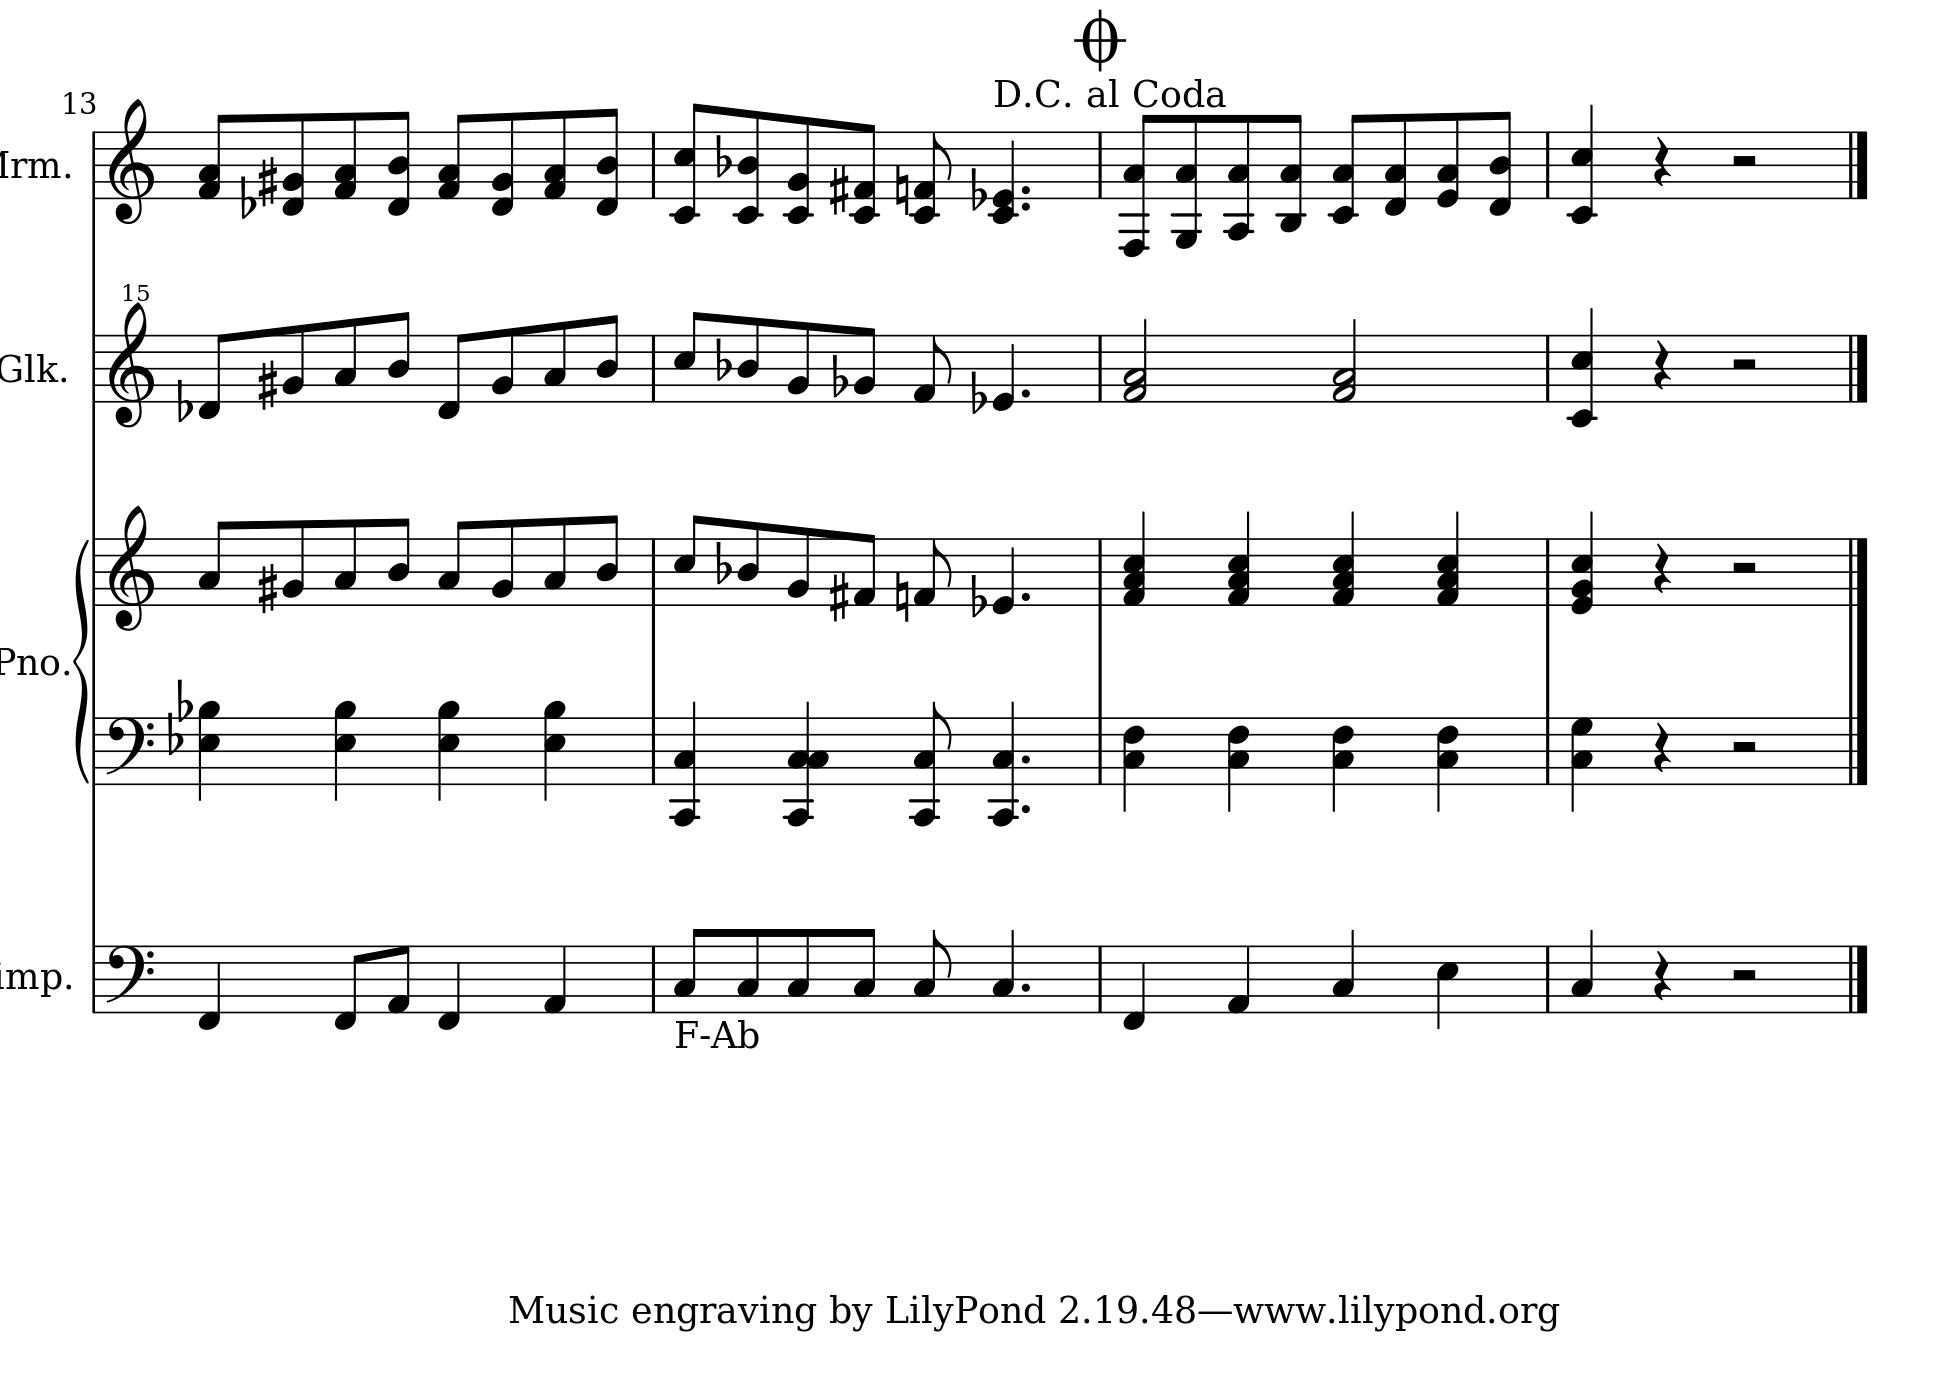1: (63, 88, 76, 115)
2_1_3: (1122, 316, 1150, 403), (1332, 316, 1359, 405)
3: (79, 88, 97, 115)
4_-1: (196, 942, 223, 1030), (436, 942, 462, 1032), (1122, 942, 1147, 1032)
4_-2_5: (1563, 103, 1600, 226), (1566, 309, 1600, 429)
4_-4_3: (667, 702, 703, 828), (987, 700, 1021, 828)
4_0: (993, 331, 1018, 412), (993, 535, 1018, 616)
4_1: (541, 943, 568, 1015), (1227, 943, 1252, 1015)
4_3: (991, 928, 1017, 1014), (1570, 928, 1596, 1014), (1332, 928, 1356, 1012)
4_3_6: (1434, 715, 1462, 814), (1225, 715, 1254, 814), (1120, 714, 1149, 813), (1329, 715, 1356, 814)
4_3_7: (1569, 715, 1596, 810)
4_5: (1434, 943, 1459, 1030)
4_5_9: (436, 699, 463, 801), (543, 700, 568, 802), (333, 697, 358, 799), (196, 699, 222, 801)
4_th: (1569, 508, 1597, 616), (1224, 510, 1254, 607), (1329, 510, 1359, 607), (1120, 508, 1149, 607), (1434, 510, 1462, 607)
8_-1: (435, 330, 472, 421), (198, 330, 234, 420), (331, 942, 366, 1032)
8_-1_2: (277, 112, 310, 217), (490, 111, 517, 216)
8_-1_3: (1383, 112, 1410, 220)
8_-1_4: (592, 106, 622, 217), (384, 109, 414, 217), (1488, 109, 1515, 217)
8_-2_1: (907, 129, 955, 225), (847, 120, 882, 226)
8_-2_2: (780, 112, 817, 228)
8_-2_3: (1324, 114, 1371, 225)
8_-2_4: (730, 108, 766, 226)
8_-2_5: (667, 102, 706, 226)
8_-3_3: (1275, 114, 1311, 234)
8_-4_3: (907, 702, 952, 828), (1221, 112, 1258, 241)
8_-5_3: (1170, 114, 1206, 249)
8_-6_3: (1119, 115, 1161, 256)
8_0_3: (1435, 109, 1464, 210)
8_1: (912, 333, 952, 403), (913, 535, 952, 607), (852, 529, 877, 607), (385, 943, 412, 1015)
8_1_3: (196, 114, 232, 201), (436, 112, 471, 202), (540, 109, 571, 202), (331, 112, 360, 201)
8_2: (280, 517, 307, 607), (489, 517, 516, 607), (784, 319, 811, 405), (280, 321, 307, 403), (784, 525, 811, 607), (489, 325, 516, 405), (852, 325, 877, 405)
8_3: (912, 927, 952, 1015), (673, 925, 709, 1012), (196, 517, 231, 607), (436, 517, 469, 607), (331, 517, 360, 607), (541, 514, 568, 607), (784, 927, 813, 1014), (735, 927, 763, 1012), (850, 925, 877, 1015), (331, 316, 358, 403), (541, 319, 568, 405)
8_4: (736, 315, 763, 403), (385, 310, 411, 403), (385, 514, 411, 607), (595, 513, 619, 607), (736, 519, 762, 607), (595, 313, 619, 403)
8_5: (672, 310, 705, 403), (672, 513, 703, 607)
Brace: (70, 535, 91, 784)
Coda: (1077, 7, 1125, 69)
DHigh_Gclef: (106, 279, 156, 429)
Fclef: (103, 943, 156, 1015), (103, 714, 154, 787)
Final_barline: (1843, 333, 1872, 402), (1843, 535, 1872, 604), (1842, 715, 1870, 784), (1845, 130, 1872, 199), (1845, 943, 1872, 1012)
Flat: (165, 708, 187, 757), (712, 130, 733, 178), (967, 571, 988, 619), (174, 376, 193, 424), (829, 351, 849, 399), (969, 165, 988, 211), (238, 171, 256, 220), (714, 334, 732, 382), (969, 367, 987, 415), (714, 537, 732, 585), (174, 676, 193, 720)
Gclef: (106, 502, 157, 631), (106, 96, 157, 223)
Natural: (892, 163, 910, 217), (894, 568, 910, 622)
Pno: (1, 643, 60, 679)
Rests2: (1728, 151, 1764, 172), (1728, 355, 1762, 376), (1728, 736, 1761, 757), (1728, 966, 1762, 985), (1728, 558, 1761, 577)
Rests4: (1650, 135, 1674, 189), (1651, 337, 1674, 393), (1653, 541, 1674, 595), (1651, 949, 1672, 1003), (1651, 721, 1672, 774)
Sharp: (256, 154, 280, 208), (826, 163, 850, 217), (255, 358, 279, 412), (255, 561, 279, 615), (826, 568, 850, 622)
Single_barline: (1539, 130, 1558, 199), (1539, 334, 1557, 402), (1092, 538, 1110, 606), (1092, 945, 1110, 1012), (1092, 717, 1110, 783), (1539, 540, 1557, 604), (1539, 717, 1557, 781), (645, 537, 661, 604), (85, 945, 102, 1012), (1540, 946, 1557, 1011), (87, 334, 102, 403), (646, 130, 661, 198), (1093, 132, 1108, 199), (646, 333, 661, 400), (646, 717, 661, 784), (646, 945, 661, 1011), (1093, 336, 1108, 400), (87, 130, 100, 199), (88, 538, 102, 606), (88, 715, 102, 783)
dot: (1017, 385, 1033, 400), (1018, 588, 1033, 604), (1020, 199, 1035, 213), (1020, 751, 1033, 766), (1020, 801, 1033, 816), (1020, 183, 1033, 196), (1020, 979, 1032, 994)
